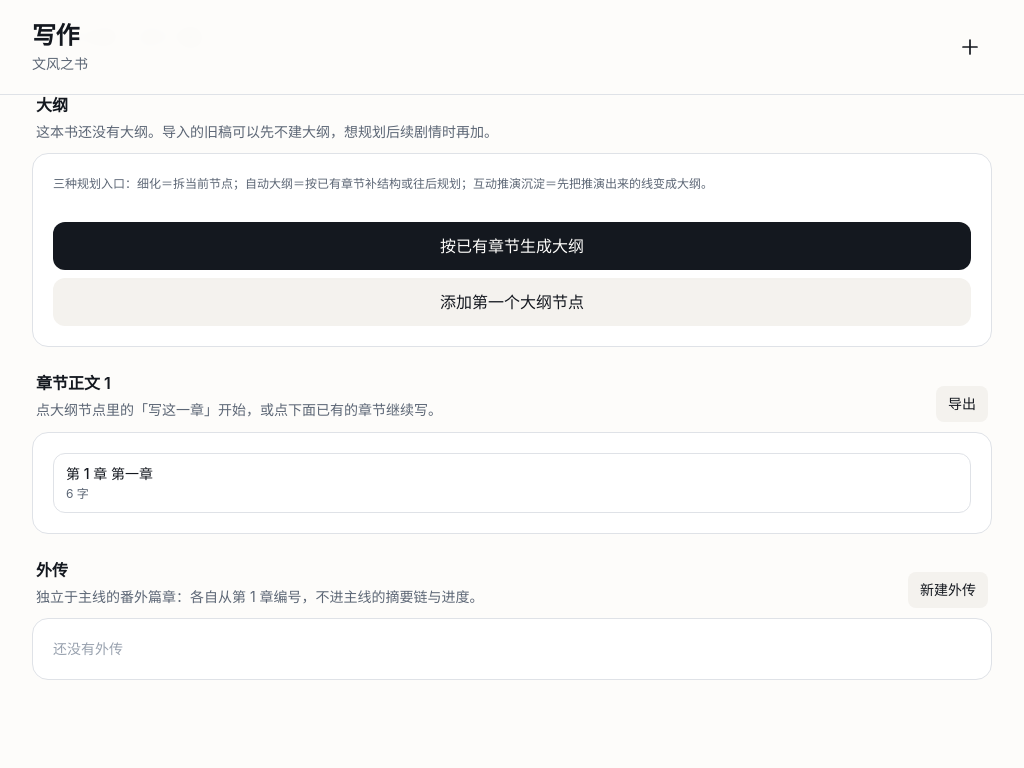
Test: M4-S2 · 编辑器 UI › 第一章：无锚点提示「第一章或没有更早正文…只对照风格档案」
This screenshot has width=1024, height=768.
(page scrolled)
Step 1. Click the button with aria-label "继续写第 1 章" → (130, 473), box [53,452,971,512]
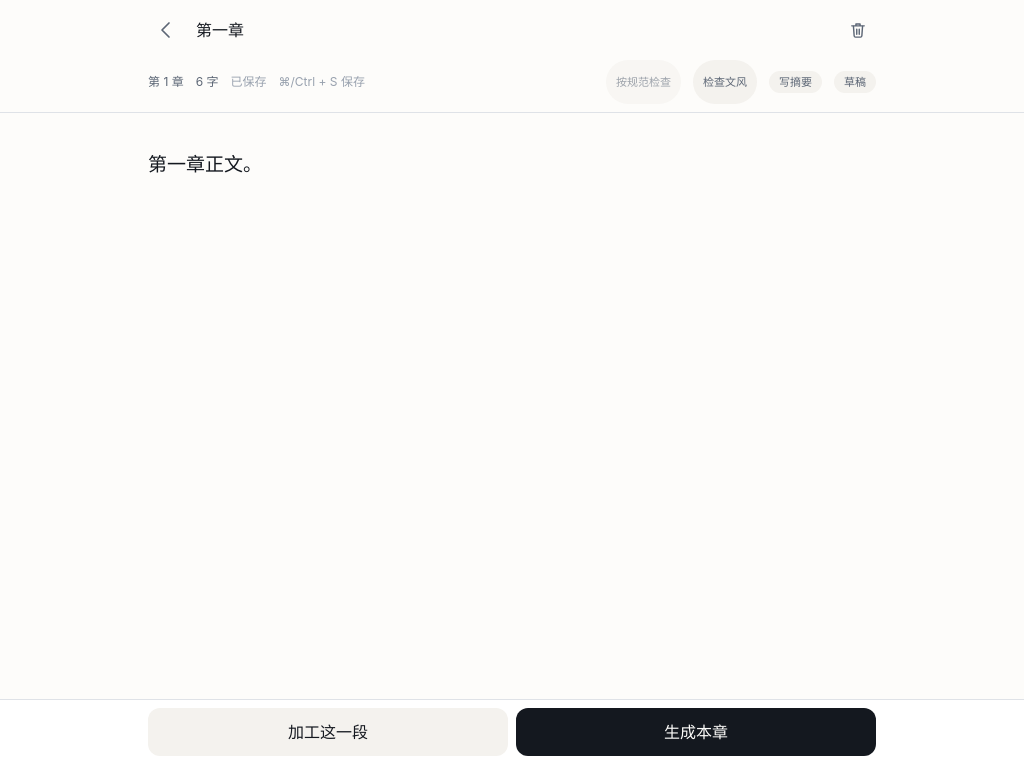
Check: the text box named "章节正文" is shown, box [144,113,880,699]
Step 2. Click the button "检查文风" → (725, 82), box [693,60,757,104]
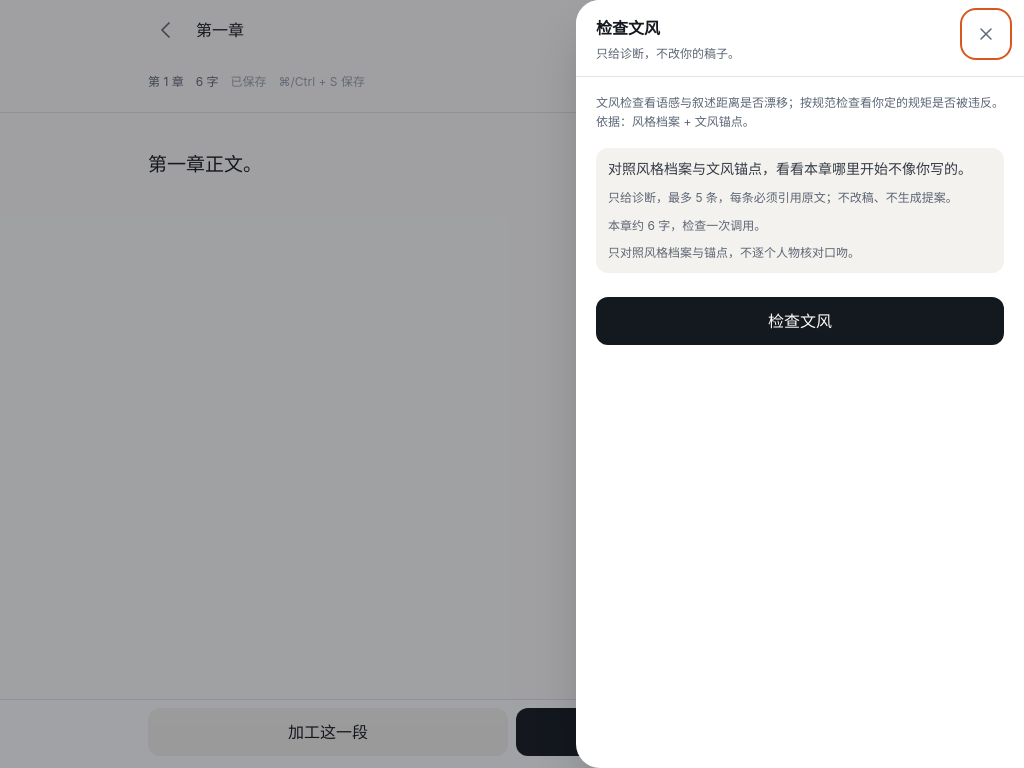
Step 3. Click the button "检查文风" → (800, 321), box [596,297,1004,345]
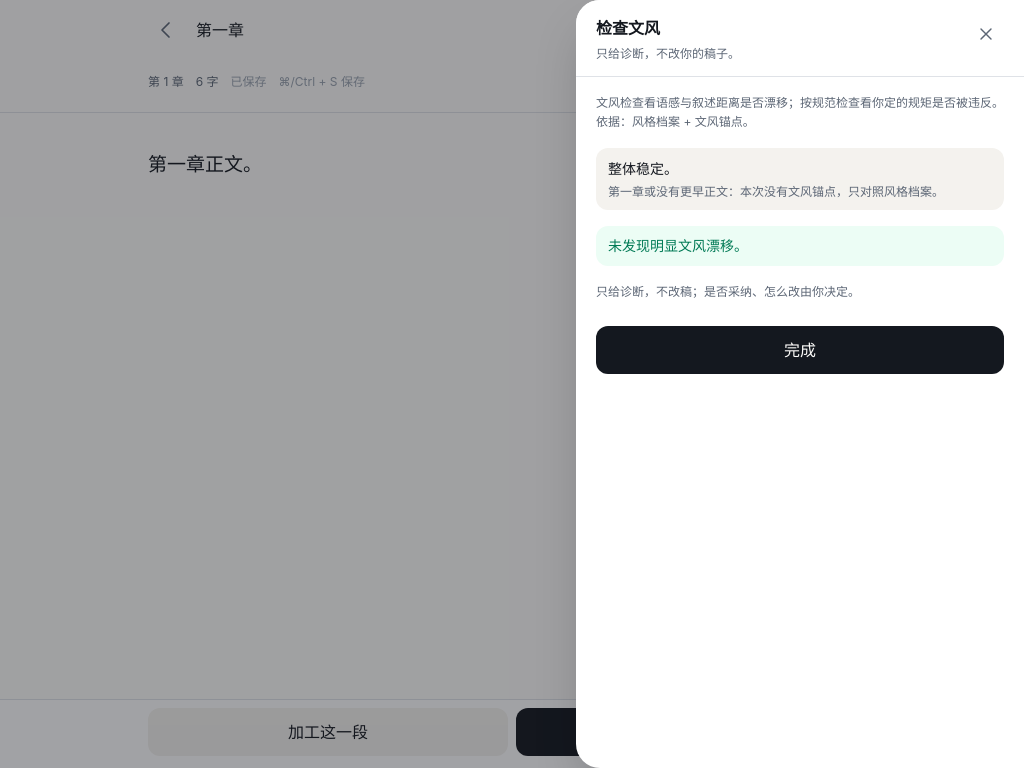
Check: the text "第一章或没有更早正文：本次没有文风锚点，只对照风格档案。" is shown, box [608,184,992,200]
